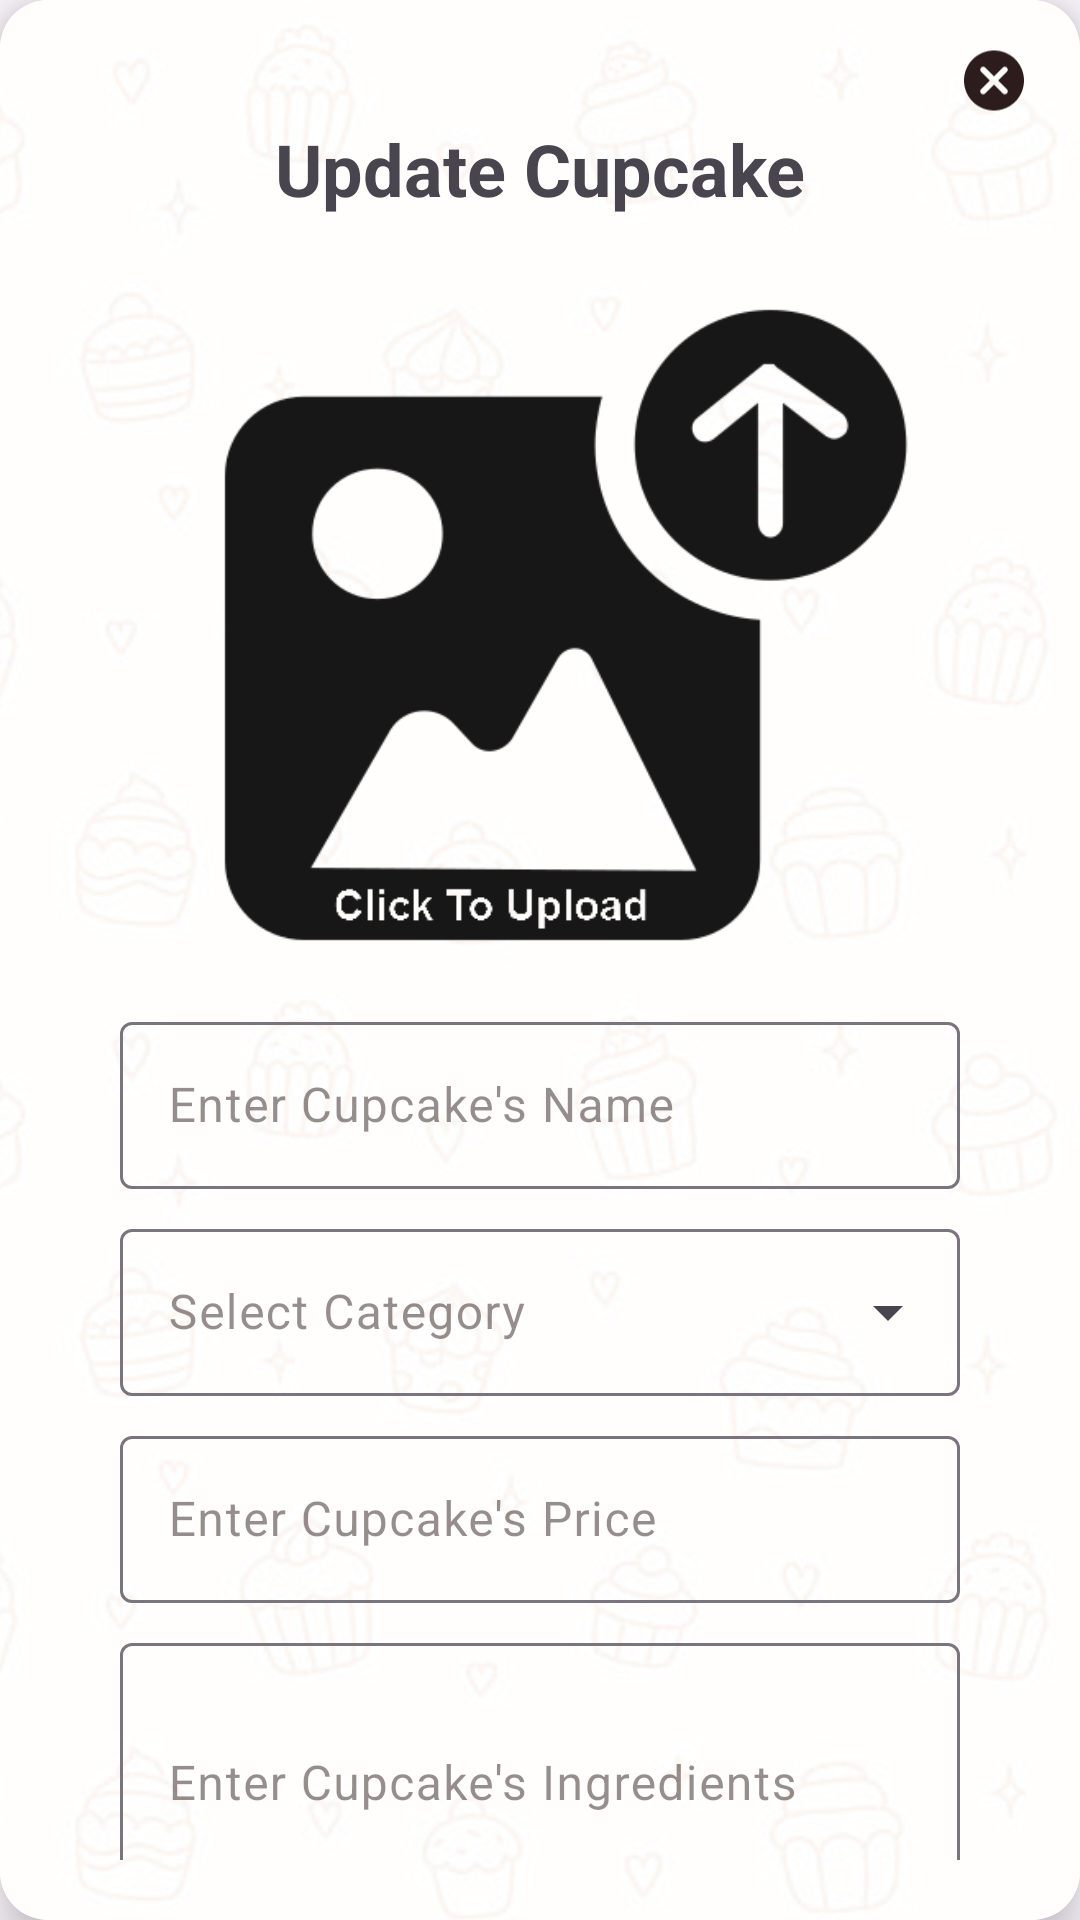

Where to tap for icons on this 1080w x 1920h app screen, as (x,y):
close: (994,80)
